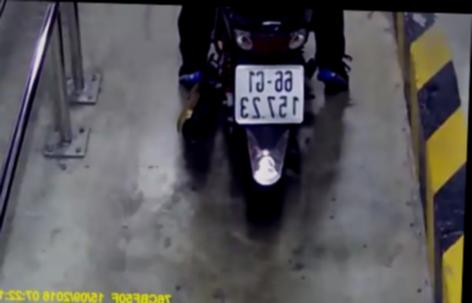License_Plate: (225, 59, 310, 130)
